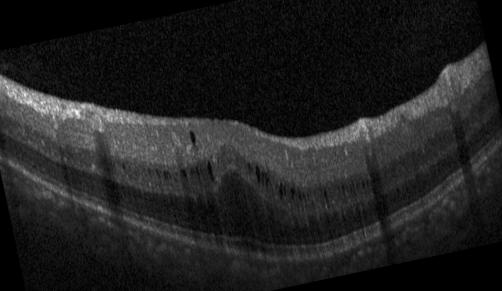intraretinal_cyst: (206, 160, 214, 181), (323, 185, 329, 208), (255, 165, 260, 185), (188, 131, 195, 145), (278, 182, 283, 199), (369, 172, 376, 183), (163, 170, 171, 179), (264, 173, 269, 187), (180, 169, 187, 178), (247, 162, 252, 174), (290, 187, 295, 199), (297, 187, 301, 201), (155, 168, 161, 176), (301, 191, 306, 200), (341, 185, 345, 196), (261, 172, 264, 186), (195, 166, 199, 174), (190, 168, 194, 175), (121, 162, 125, 169), (283, 186, 286, 195), (147, 168, 150, 176), (361, 181, 364, 189), (365, 180, 368, 186), (355, 182, 358, 188), (351, 181, 354, 187), (349, 185, 352, 191), (306, 194, 309, 199), (346, 186, 348, 192), (352, 190, 355, 194)
